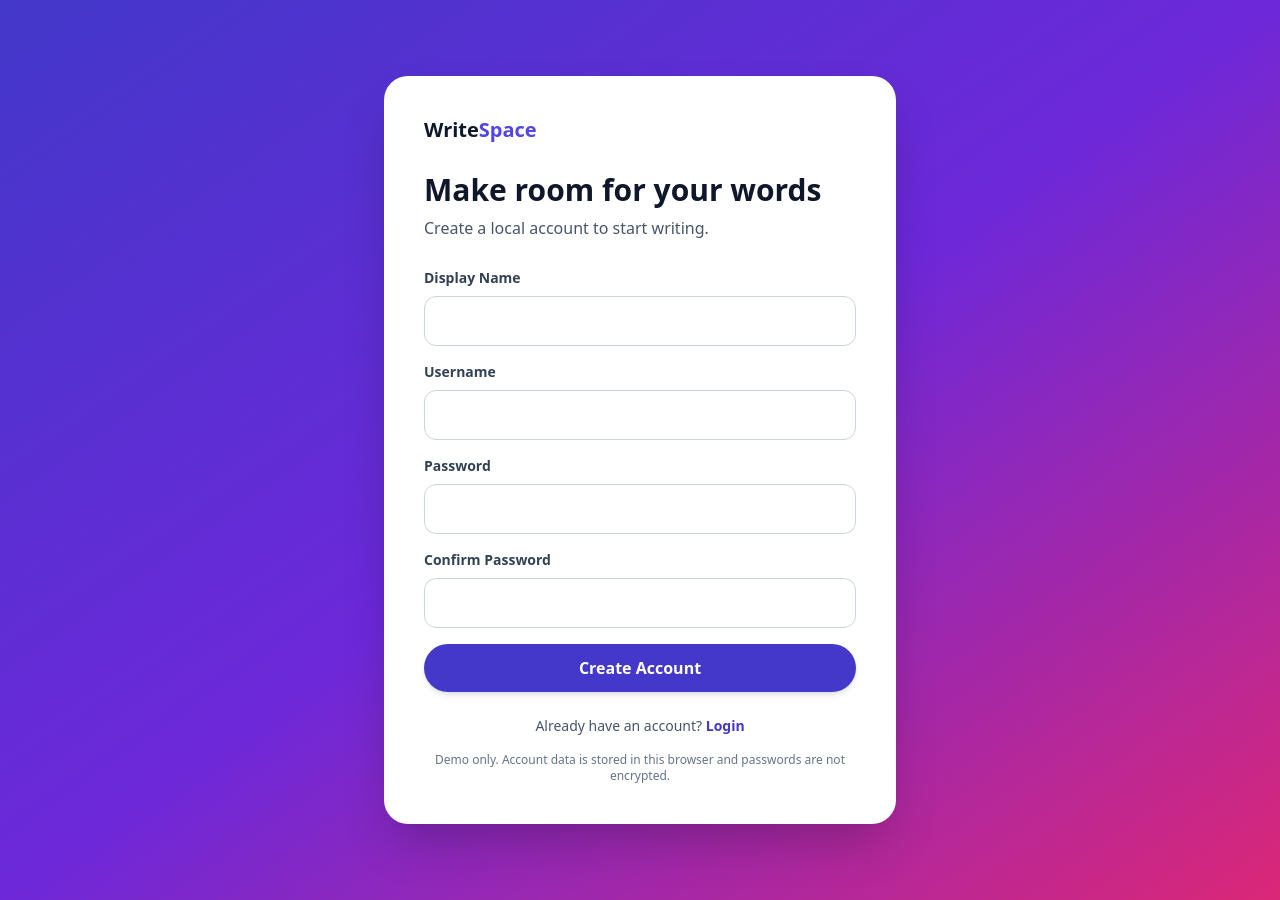
Test: public and identity pages › shows a duplicate username registration error
Type "Another Rae" into the field labelled "Display Name" at (640, 321), box [424,296,856,346]
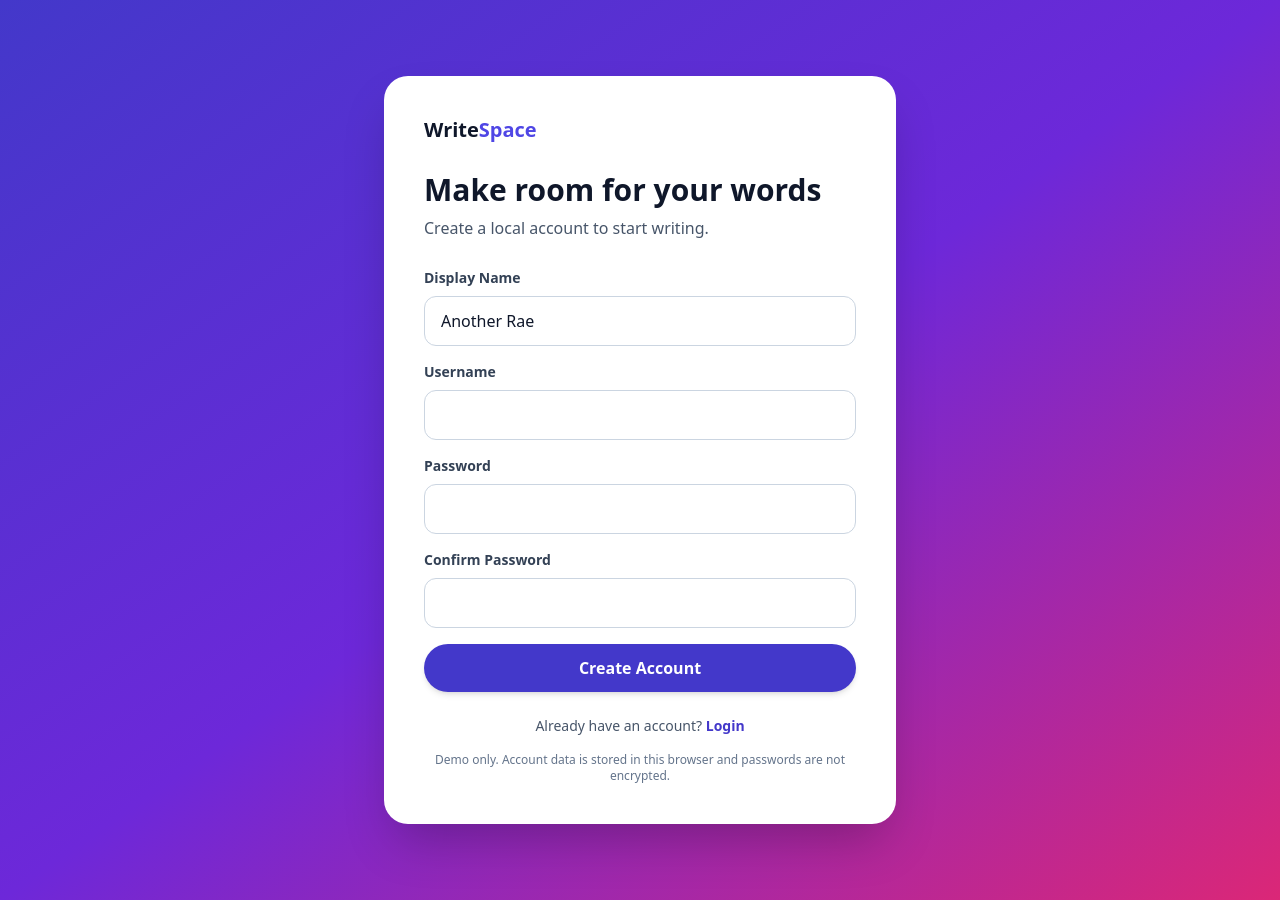
Type "rae" into the field labelled "Username" at (640, 415), box [424,390,856,440]
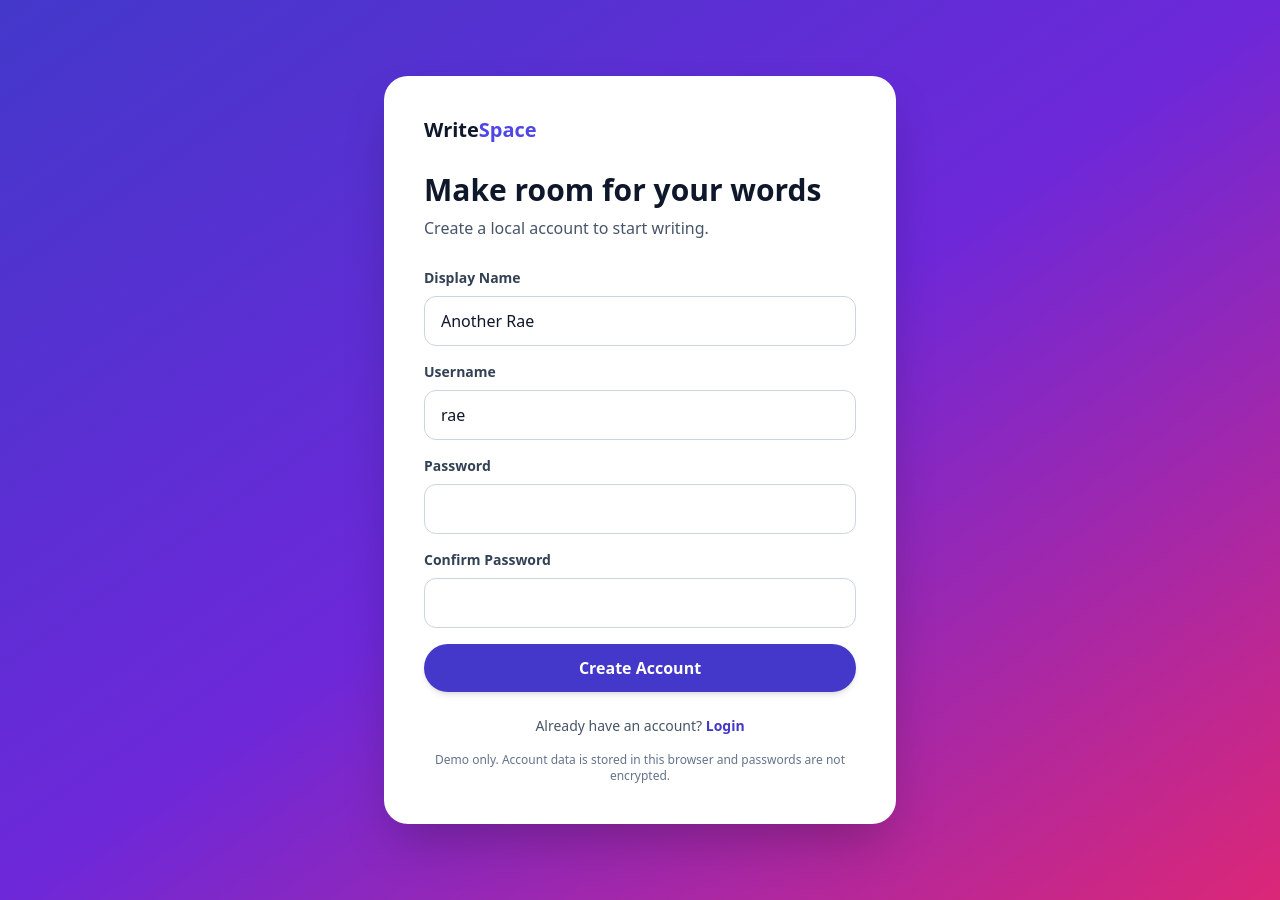
Type "secret" into the password field labelled "Password" at (640, 509), box [424,484,856,534]
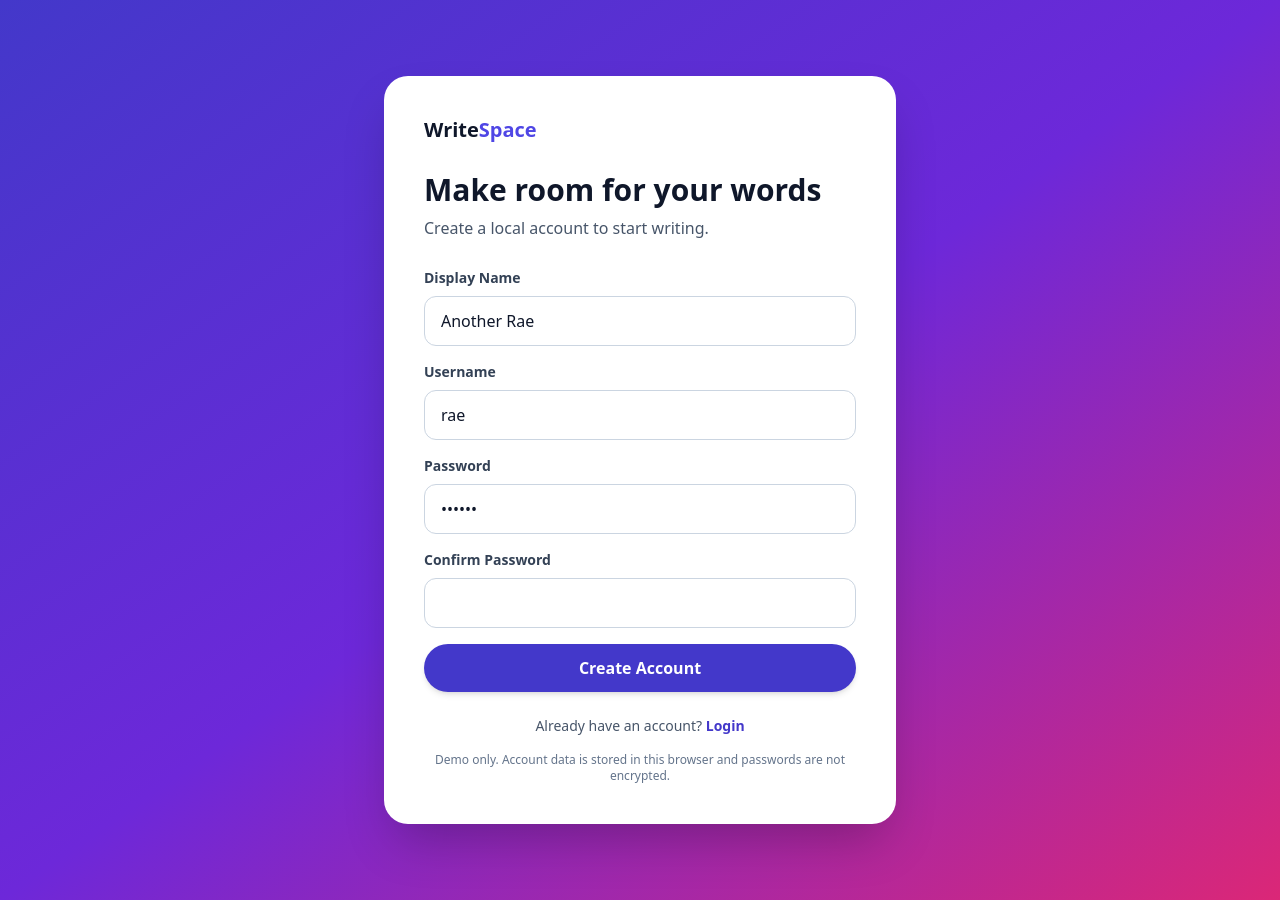
Type "secret" into the password field labelled "Confirm Password" at (640, 603), box [424,578,856,628]
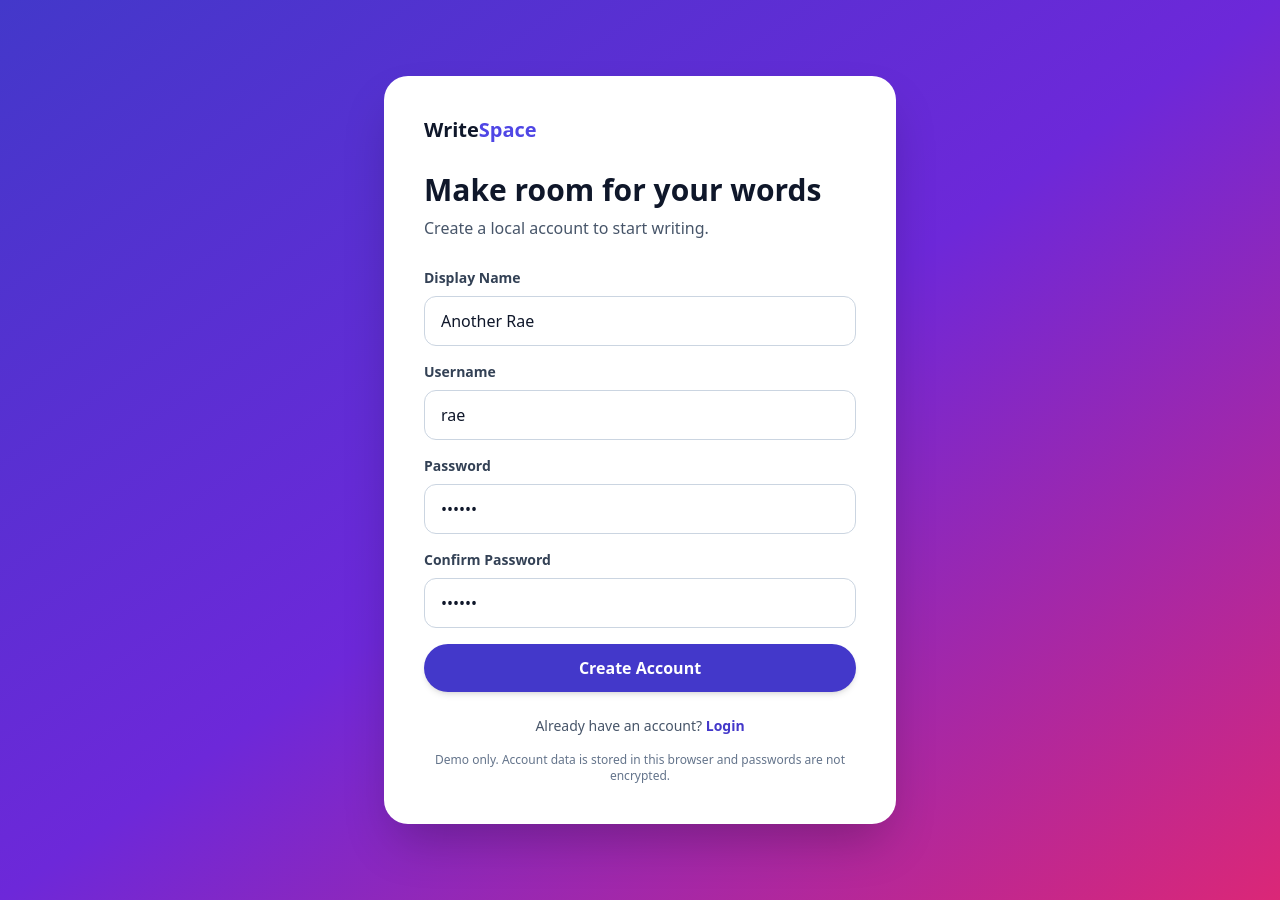
Click the button "Create Account" at (640, 668), box [424,644,856,692]
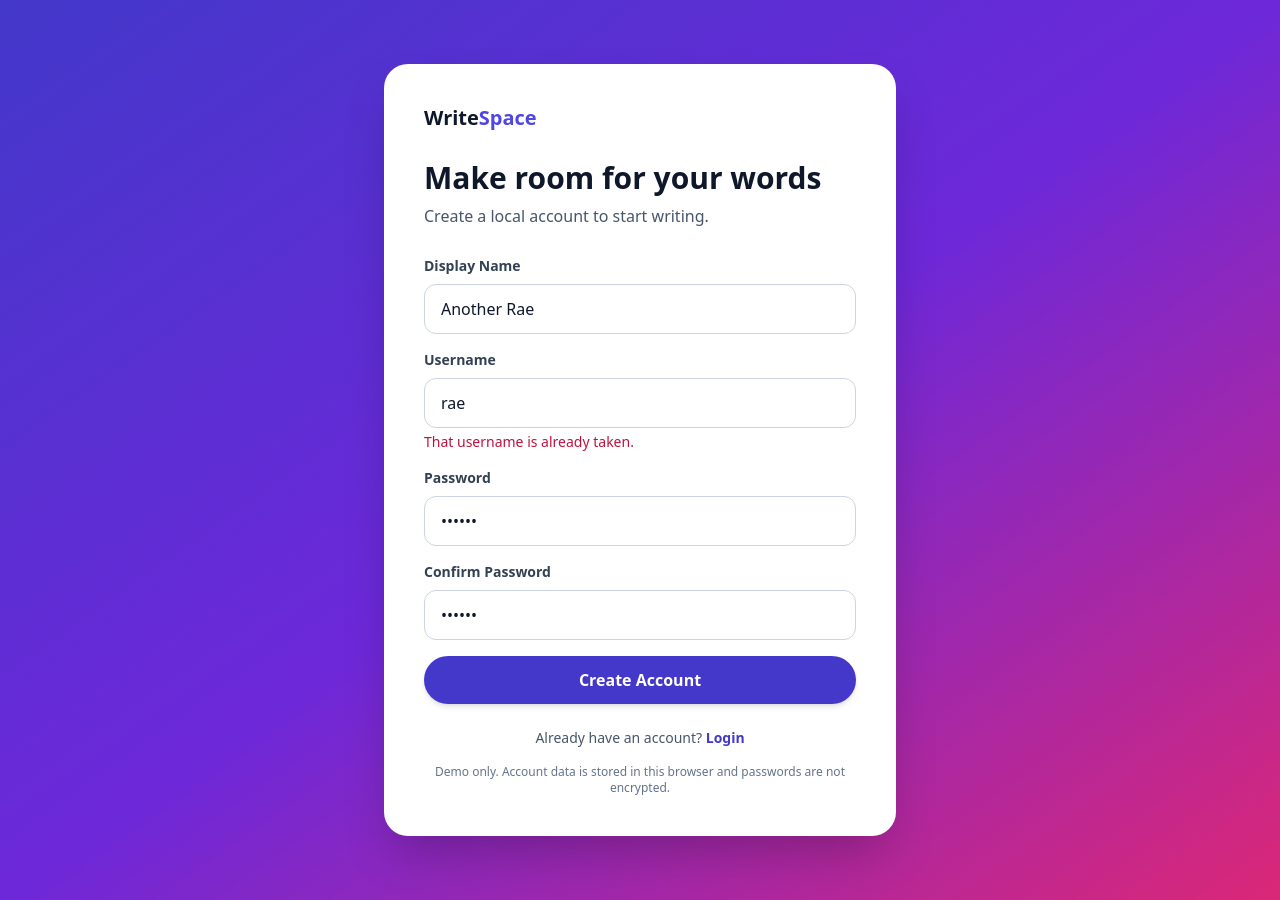
Expected: the text "That username is already taken." is shown, [424,432,634,451]
